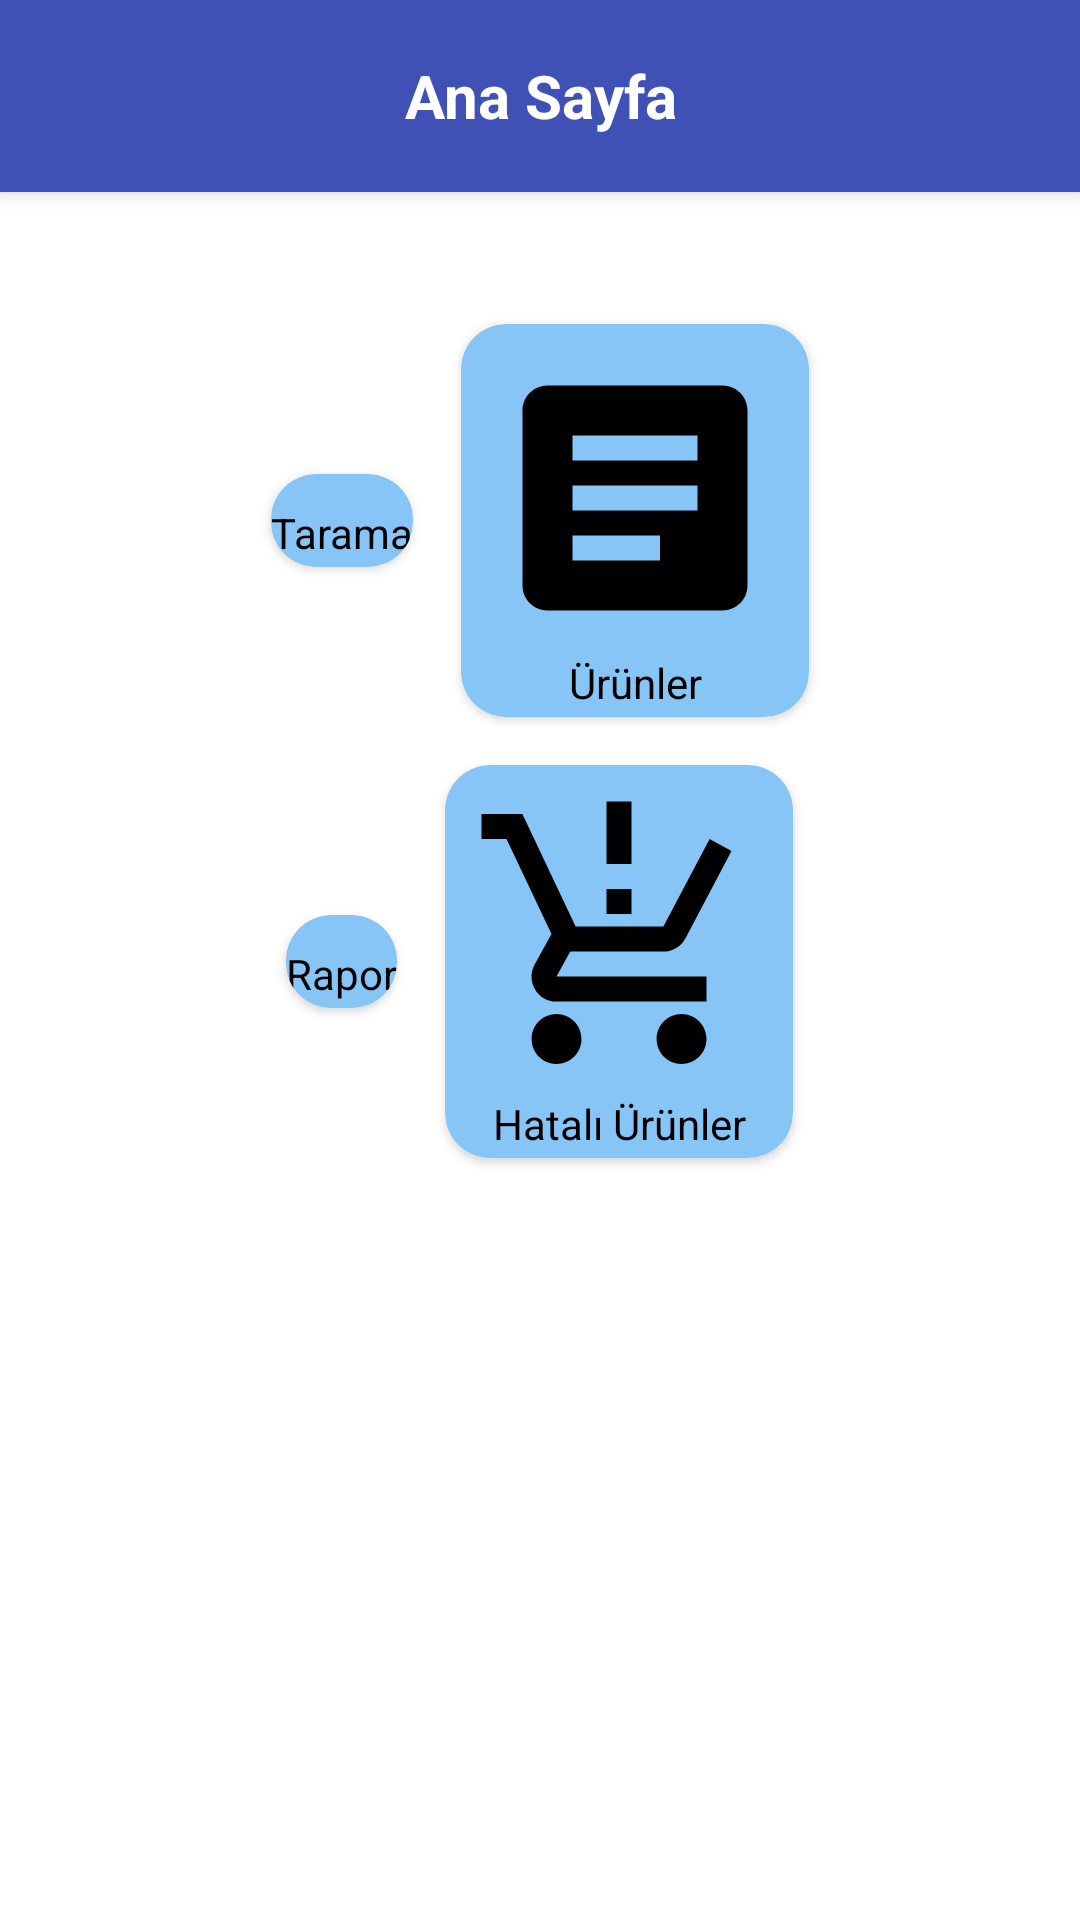

Icon click points for this 1080*1920 phone screenshot, format (x=x, y=y):
article: (x=635, y=498)
production quantity limits: (x=606, y=932)
